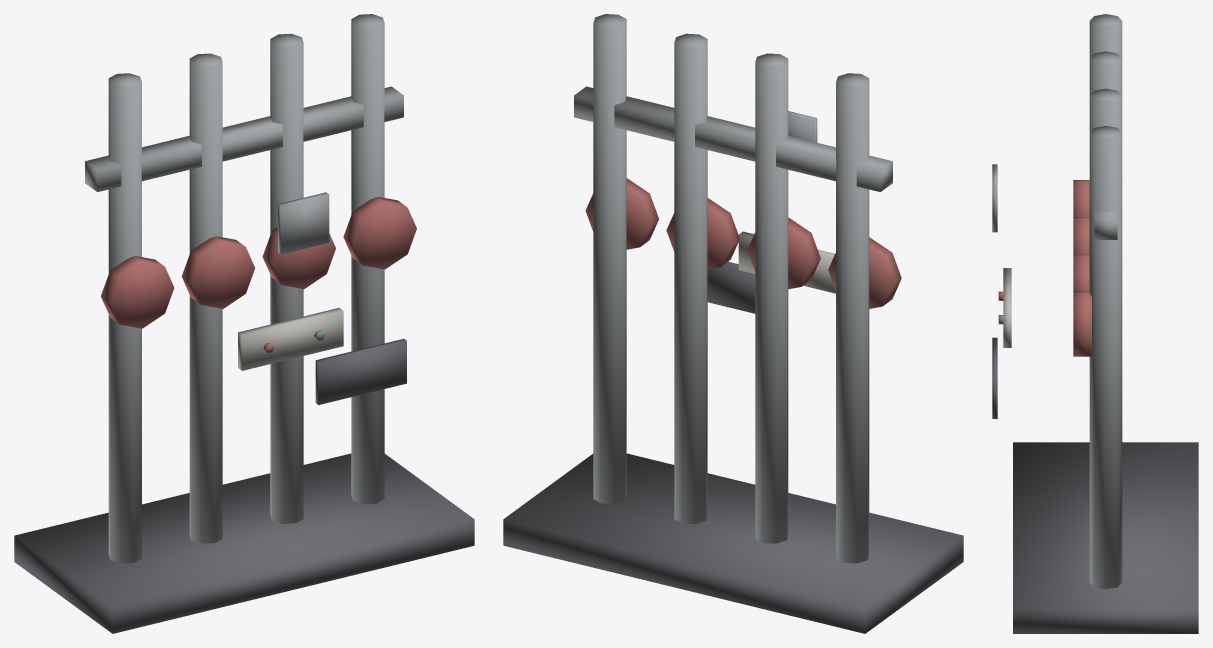
Rendered from steam_manifold__weathered.glb.
3 renders of one model, left to right at view 1: azimuth 30°, elevation 25°; view 2: azimuth 150°, elevation 25°; view 3: azimuth 270°, elevation 25°, orthographic. The views are drawn at different scales.
Parts seen in each view (by area): view 1: world; view 2: world; view 3: world.
Boxes of the visible parts, x1,y1,x2,y2 form: world: [14, 14, 474, 633]; world: [503, 14, 963, 633]; world: [992, 14, 1198, 633].
Bounding box in the file's own units: 0.85 × 1.13 × 0.445.
